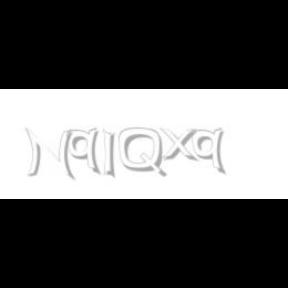I: (104, 128, 116, 180)
N: (24, 128, 74, 180)
Q: (119, 128, 165, 178)
q: (66, 128, 102, 176), (191, 128, 227, 176)
x: (160, 128, 202, 162)
